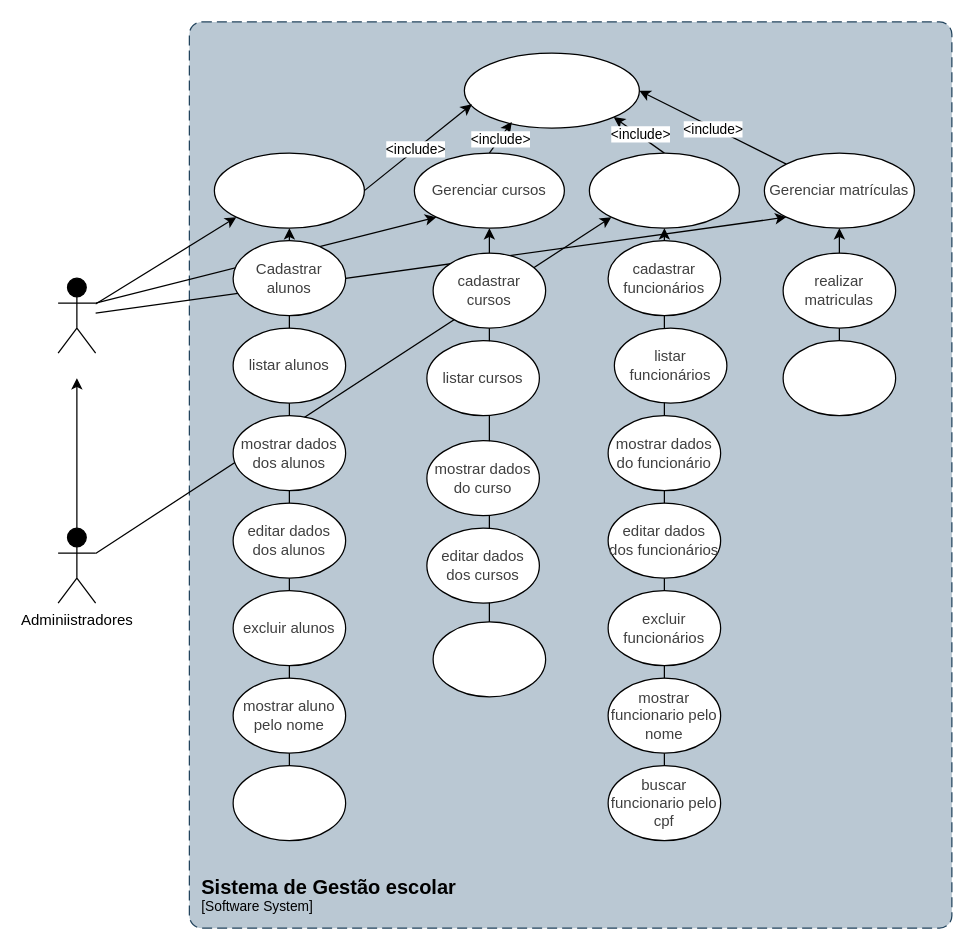
Image size: 974x950. Some labels were removed from this diagram. The box of each missing label's shape, as (x1, y1, x2, y2) in pixels:
buscar aluno pelo cpf: (232, 764, 346, 841)
Colaboradores: (57, 277, 96, 353)
excluir cursos: (432, 621, 546, 697)
excluir matriculas: (782, 339, 896, 416)
Gerenciar alunos: (213, 152, 364, 228)
Gerenciar funcionários: (588, 152, 739, 228)
Login de usuários: (463, 52, 639, 128)
